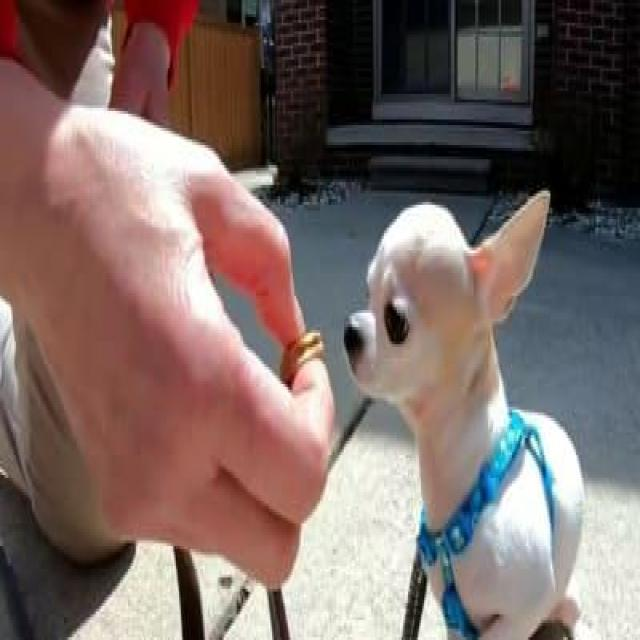Dog: (335, 179, 563, 430)
